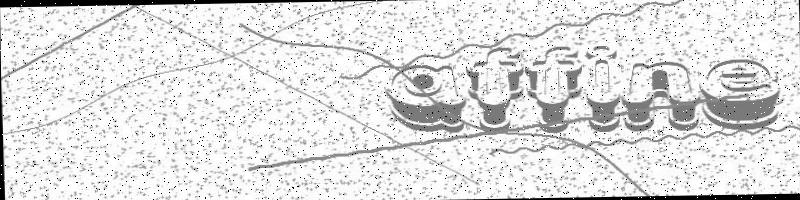a: (383, 57, 469, 135)
e: (694, 56, 781, 130)
f: (462, 41, 529, 140), (526, 35, 587, 143)
i: (583, 35, 621, 134)
n: (621, 56, 704, 135)
